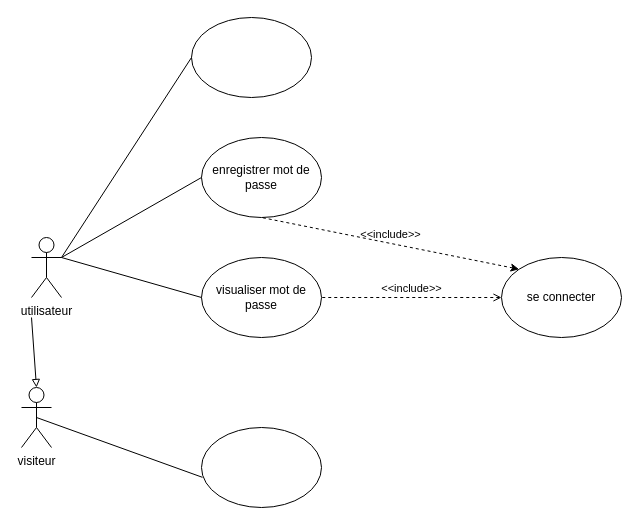
This 639x525 diagram has some shape labels left out. Here are the shapes that lost their labels. From the top down, the box of each, then its label:
(190, 16, 312, 98): Créer un groupe
(200, 426, 322, 508): générer un mot de passe
